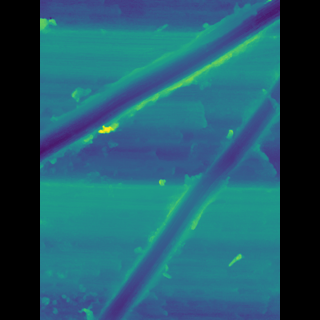Loch: (111, 65, 250, 319), (69, 0, 251, 167)
